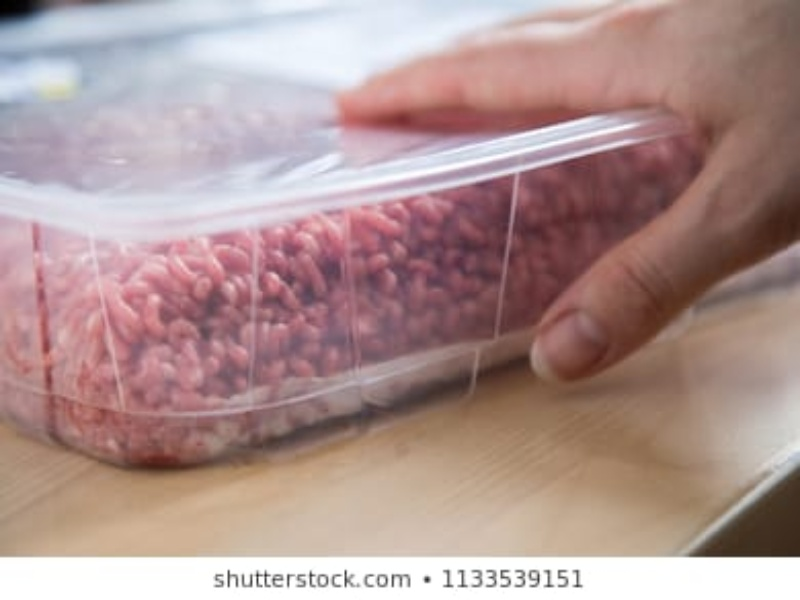plastic-container: (4, 1, 667, 476)
